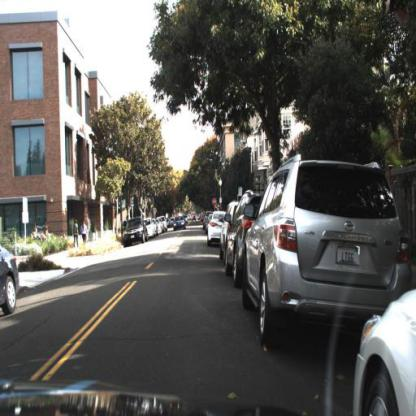car: (241, 153, 413, 344), (225, 183, 257, 297), (224, 188, 261, 286), (220, 200, 240, 258), (124, 216, 148, 247), (207, 209, 225, 247), (206, 210, 223, 248), (143, 217, 155, 239), (174, 217, 188, 232)
pedestrian: (71, 219, 81, 250), (81, 220, 89, 250)
